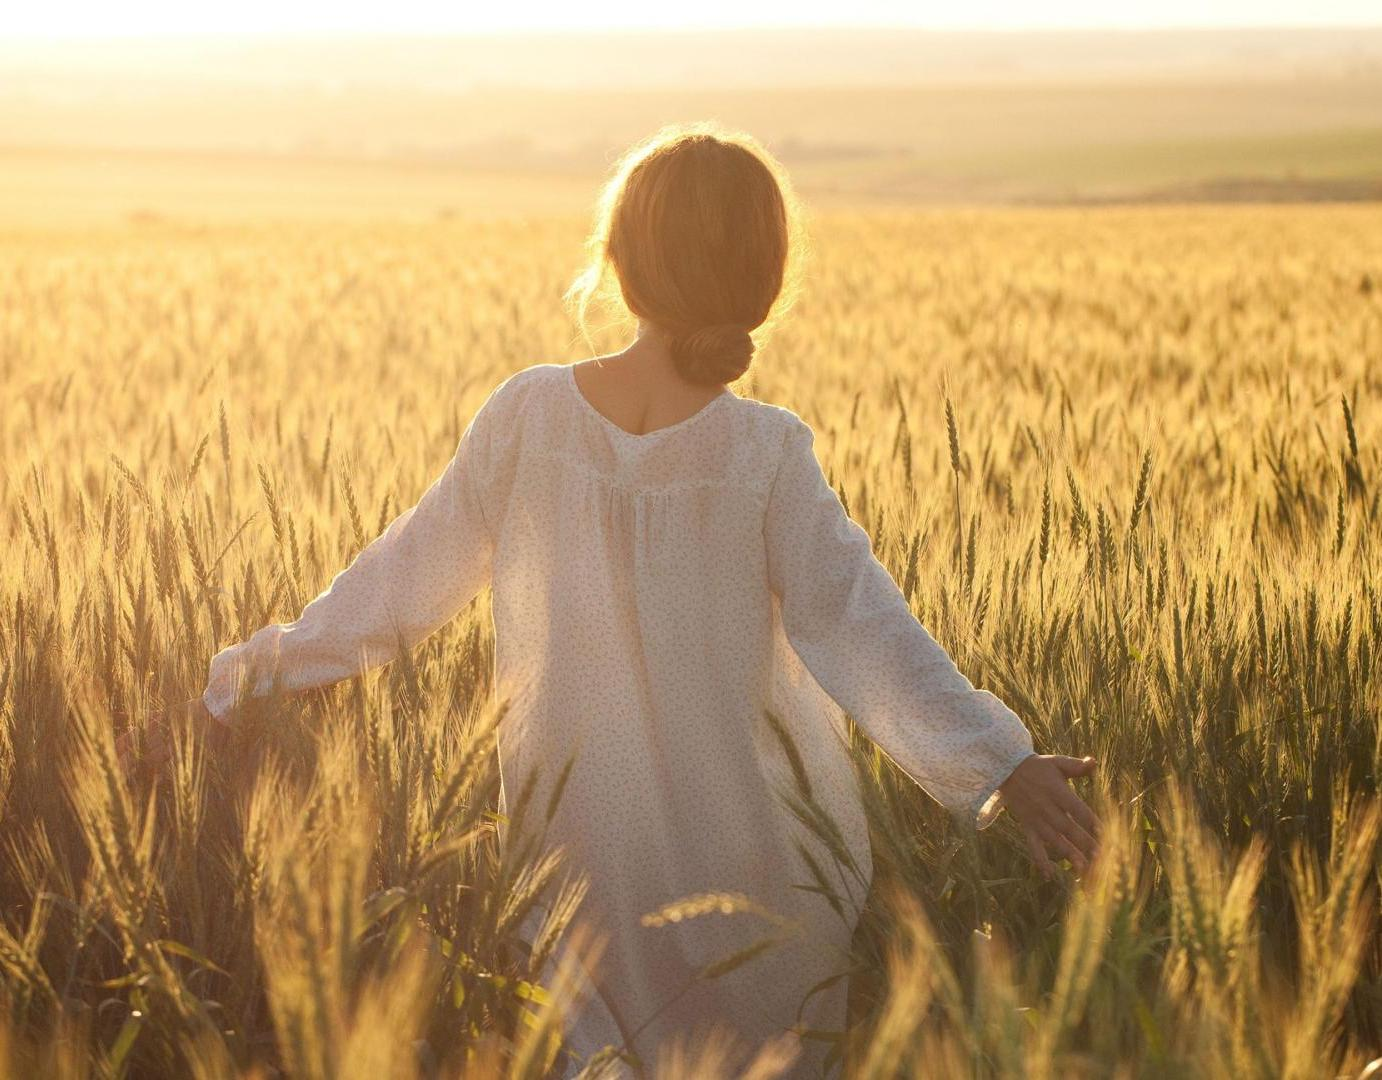person: (153, 125, 1120, 950)
